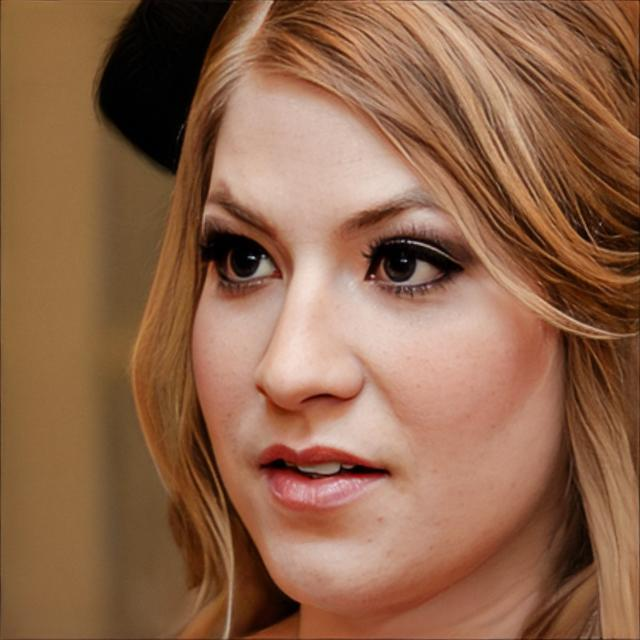disgust: (188, 52, 560, 614)
